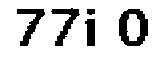0: (117, 6, 150, 50)
7: (11, 6, 46, 50), (49, 7, 81, 49)
i: (85, 6, 99, 51)
